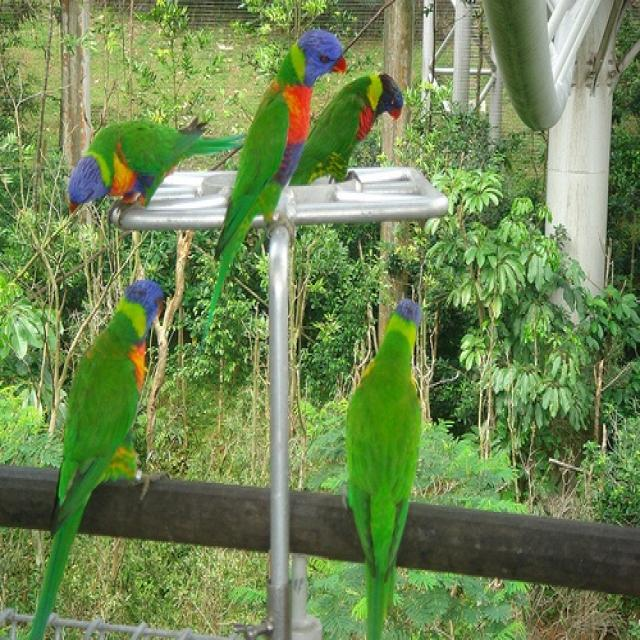bird: (26, 278, 162, 638), (201, 29, 346, 338), (346, 296, 424, 638), (69, 118, 247, 210), (288, 72, 402, 186)
